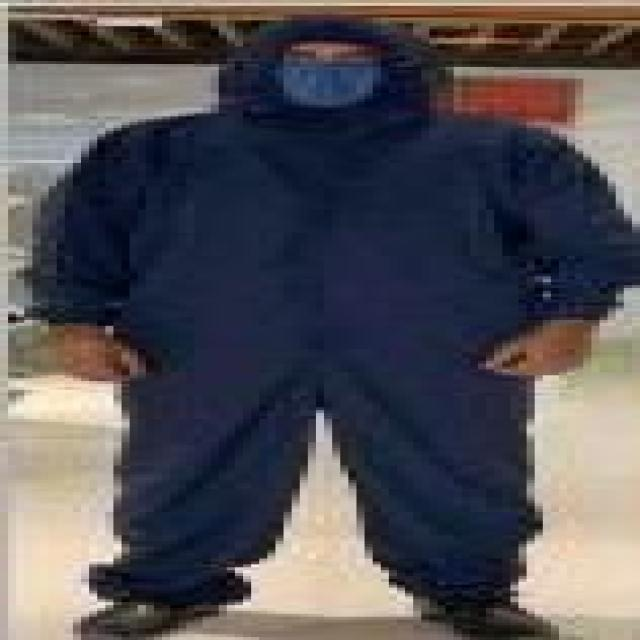Coverall: (16, 12, 608, 631)
Mask: (243, 56, 462, 117)
